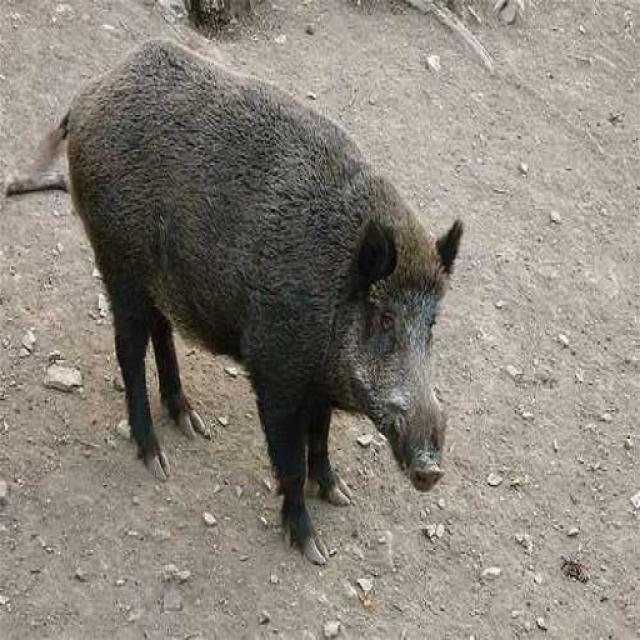pig: (45, 0, 506, 561)
